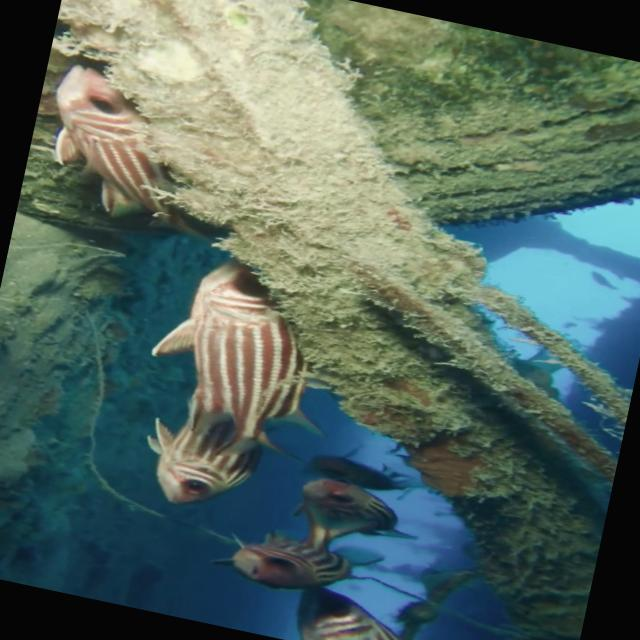Asker Baligi: (120, 243, 358, 530), (31, 57, 206, 229)
